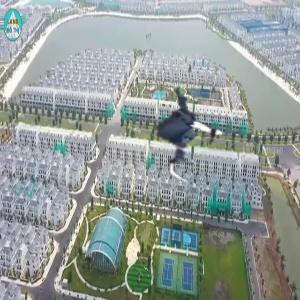drone: (138, 87, 237, 186)
